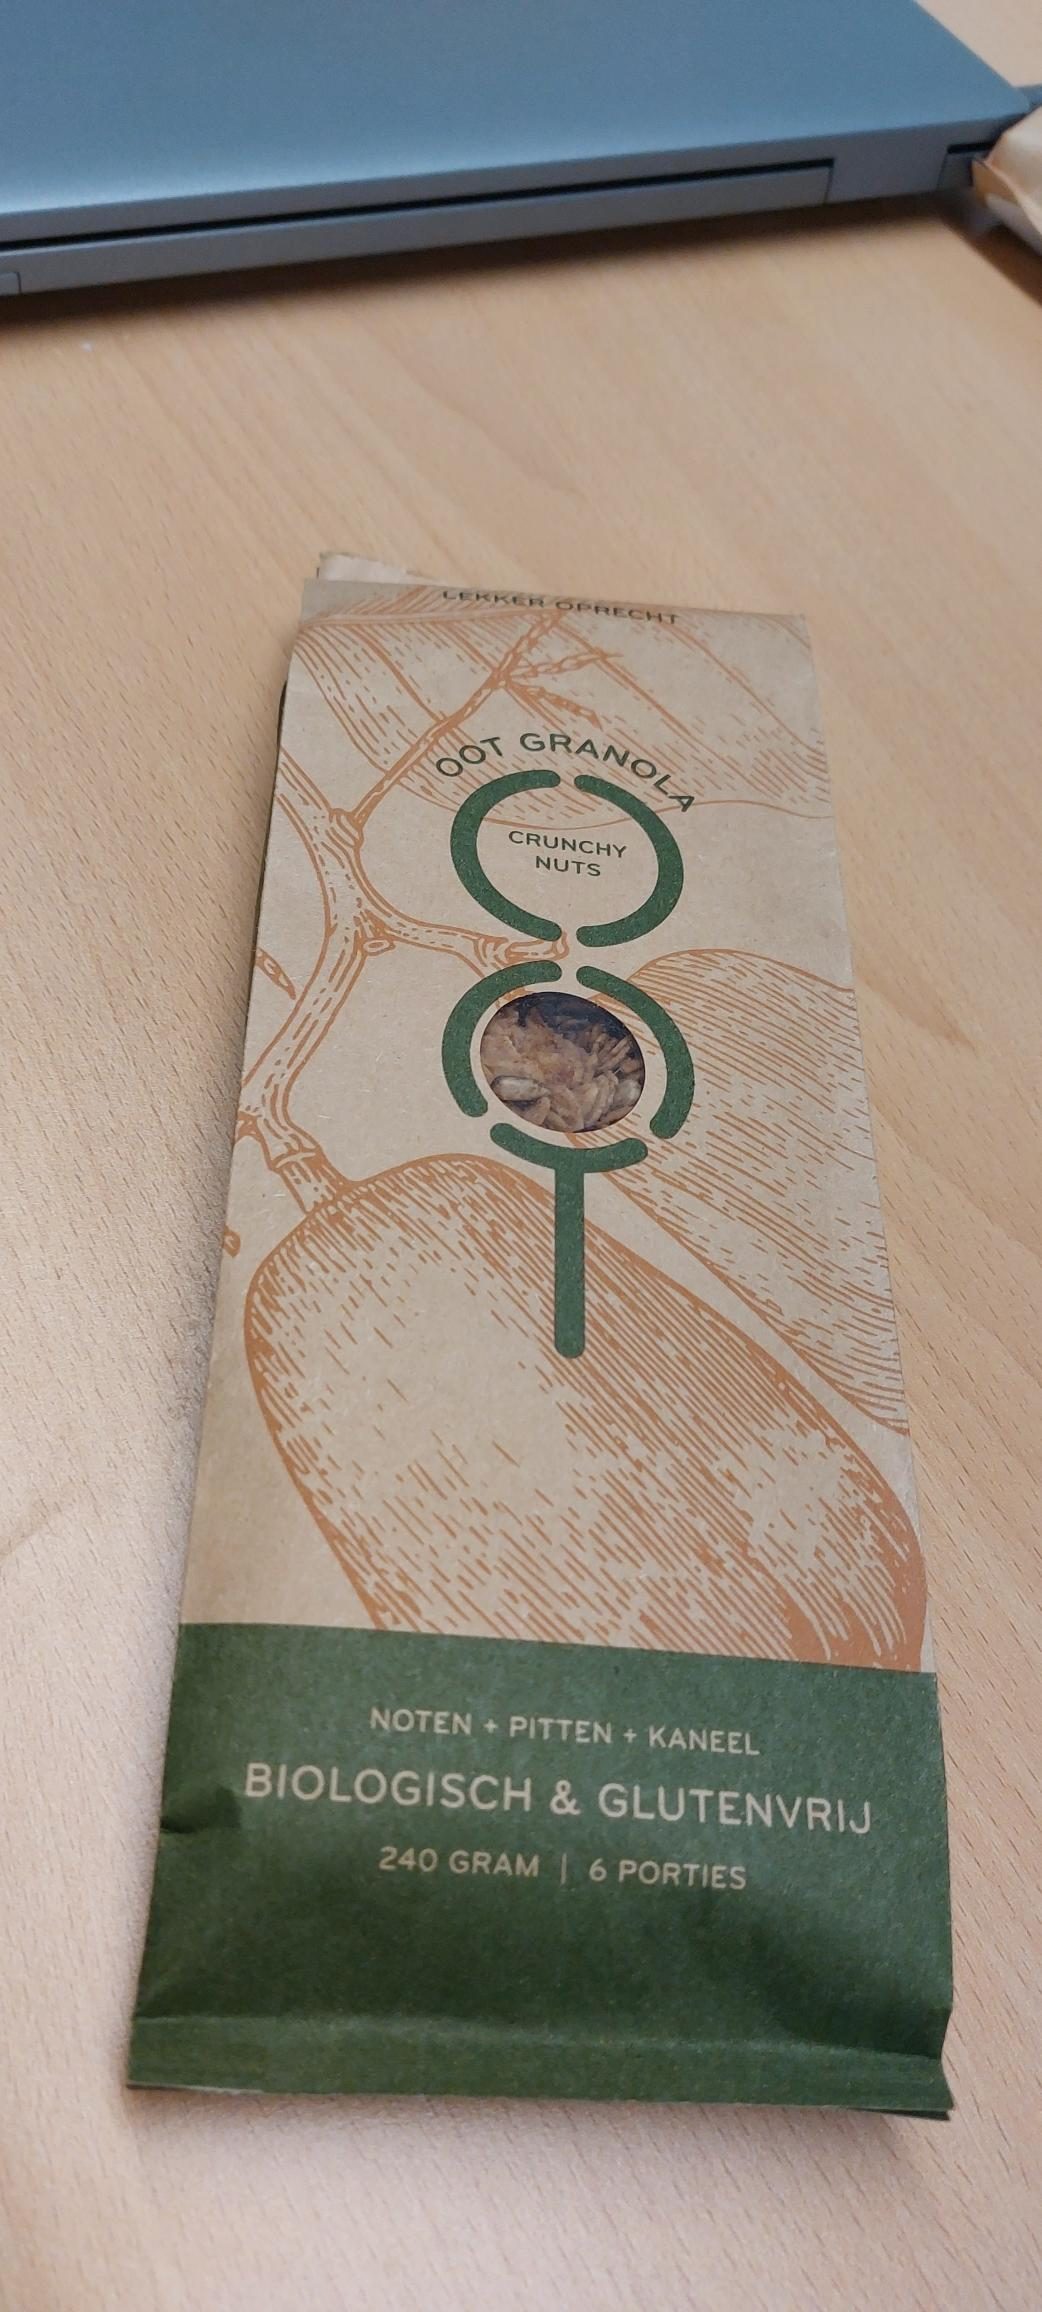CrunchyNuts: (237, 633, 895, 2070)
